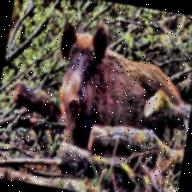boar: (41, 8, 192, 173)
